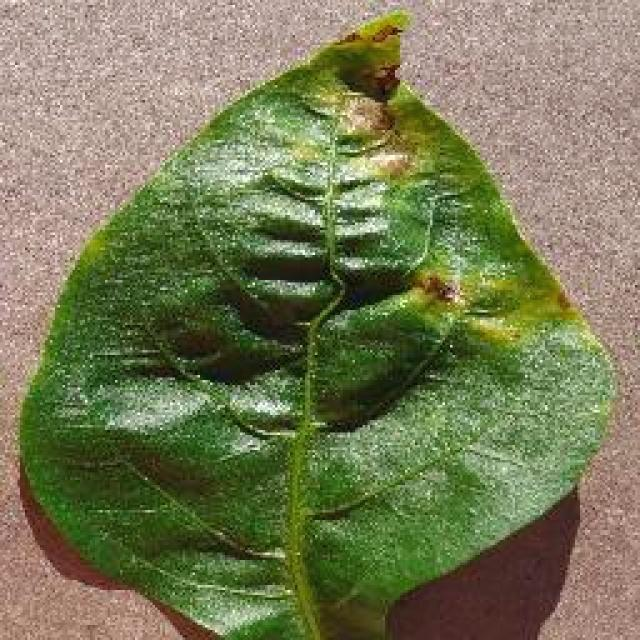Bercak Daun Serkospora: (15, 8, 618, 638)
